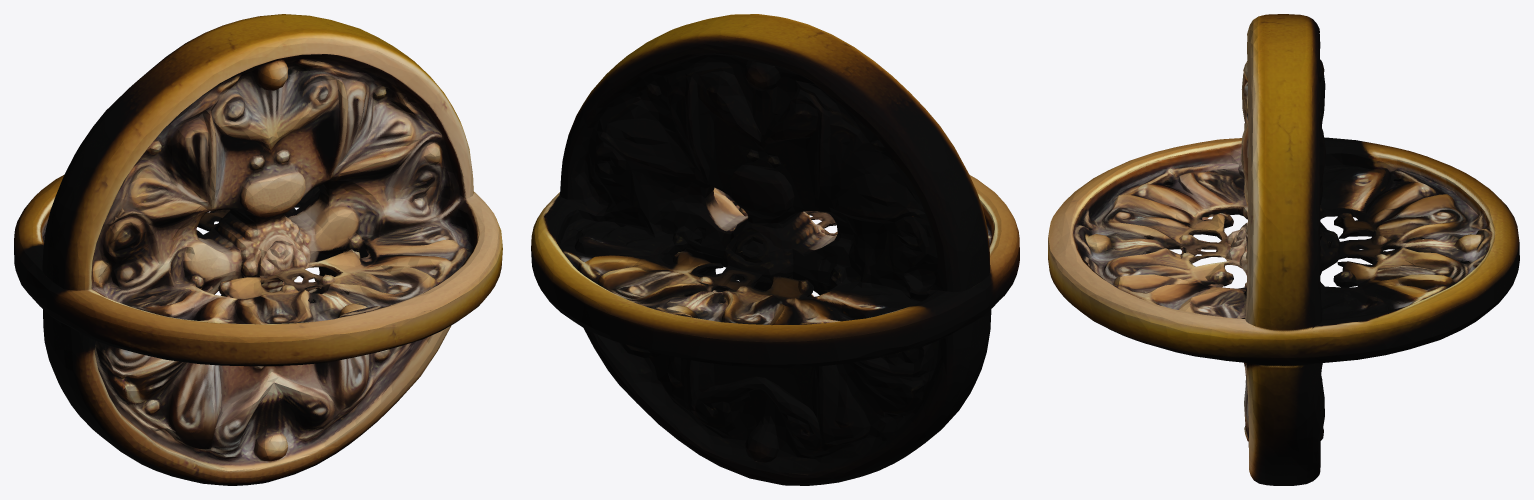
The model's file is wooden-button-vintage.jpeg.glb.
3 renders of one model, left to right at view 1: azimuth 30°, elevation 25°; view 2: azimuth 150°, elevation 25°; view 3: azimuth 270°, elevation 25°, orthographic. The views are drawn at different scales.
Parts seen in each view (by area): view 1: world; view 2: world; view 3: world.
Part boxes in pixels (<box>): world: <box>14,14,502,485</box>; world: <box>531,14,1019,485</box>; world: <box>1048,14,1519,485</box>.
Bounding box in the file's own units: 0.9974 × 0.9992 × 0.9991.
1 material, 1 textured.
